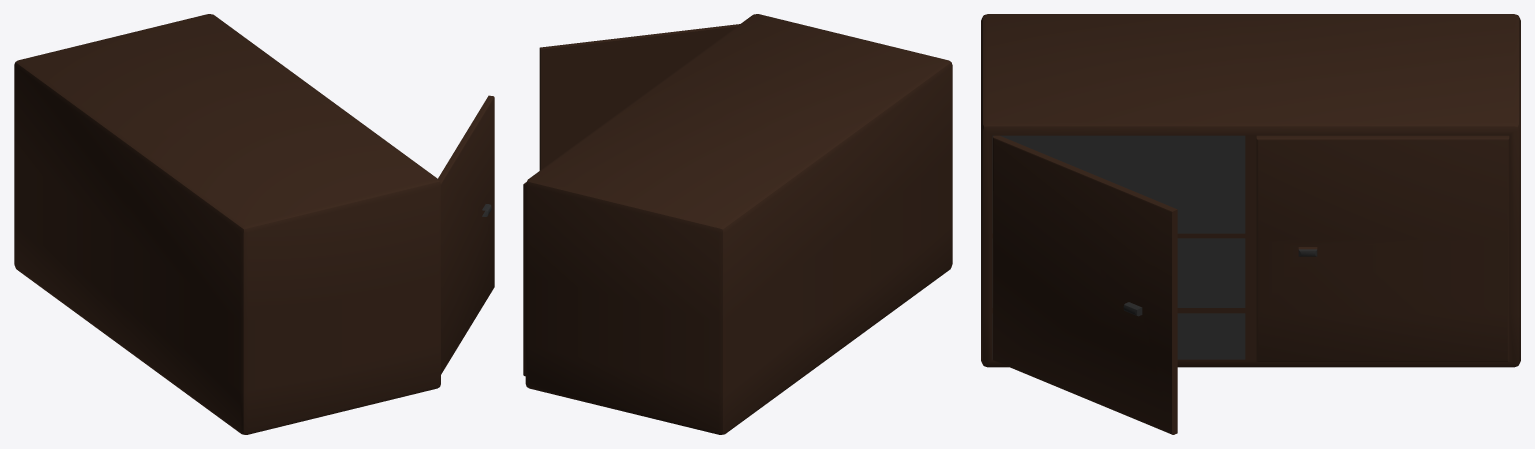
File: Ceiling Cabinet Left Door open.fbx
3 renders of one model, left to right at view 1: azimuth 30°, elevation 25°; view 2: azimuth 150°, elevation 25°; view 3: azimuth 270°, elevation 25°, orthographic. The views are drawn at different scales.
Parts seen in each view (by area): view 1: Cabinet Left Door Open; view 2: Cabinet Left Door Open; view 3: Cabinet Left Door Open.
Part boxes in pixels (left/top/right/bottom): Cabinet Left Door Open: left=14, top=14, right=494, bottom=434; Cabinet Left Door Open: left=523, top=14, right=952, bottom=434; Cabinet Left Door Open: left=981, top=14, right=1520, bottom=434.
Bounding box in the file's own units: 166 × 100 × 200.
